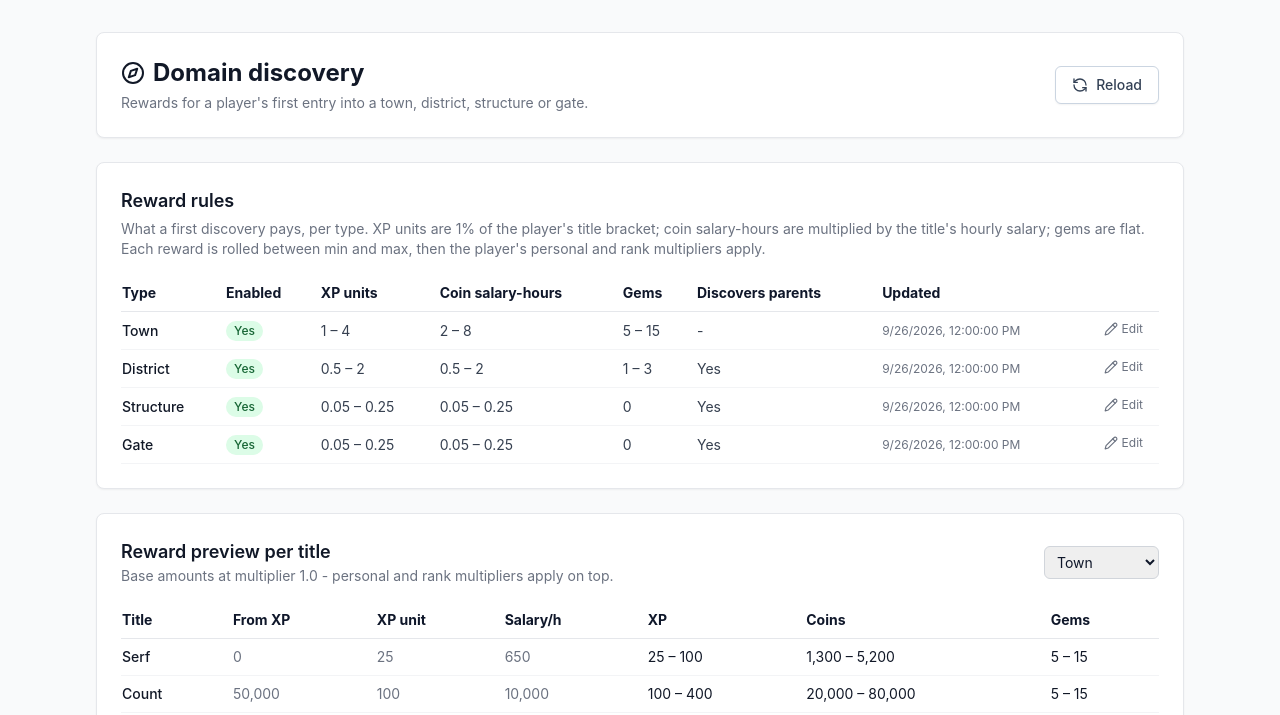
Test case: DiscoveryAdminPage › turning a type with subtypes on or off › asks whether Gate structures follow when Structure is turned off
This screenshot has width=1280, height=715.
expect the text "Serf" is shown: met, box [121, 638, 232, 676]
Click the button with aria-label "Edit Structure rule": coordinates (1123, 404) [1104, 396, 1143, 412]
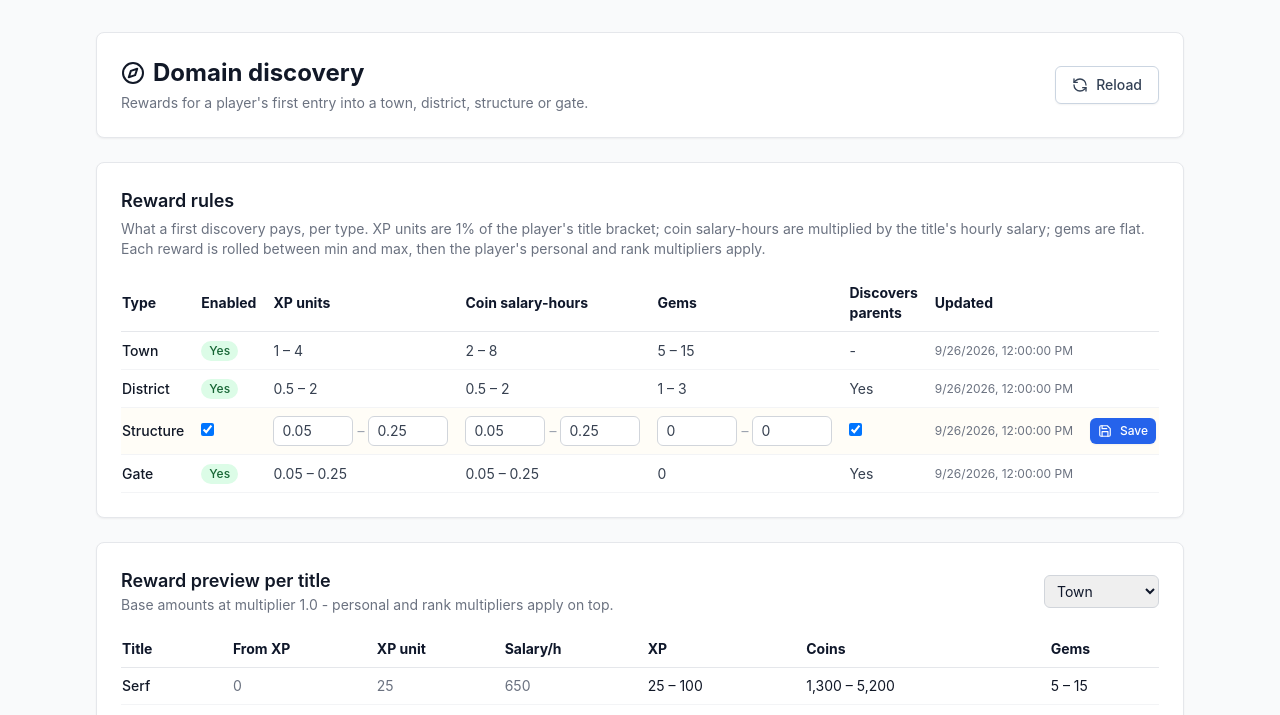
Click the checkbox named "Structure enabled": coordinates (208, 430) [201, 423, 214, 436]
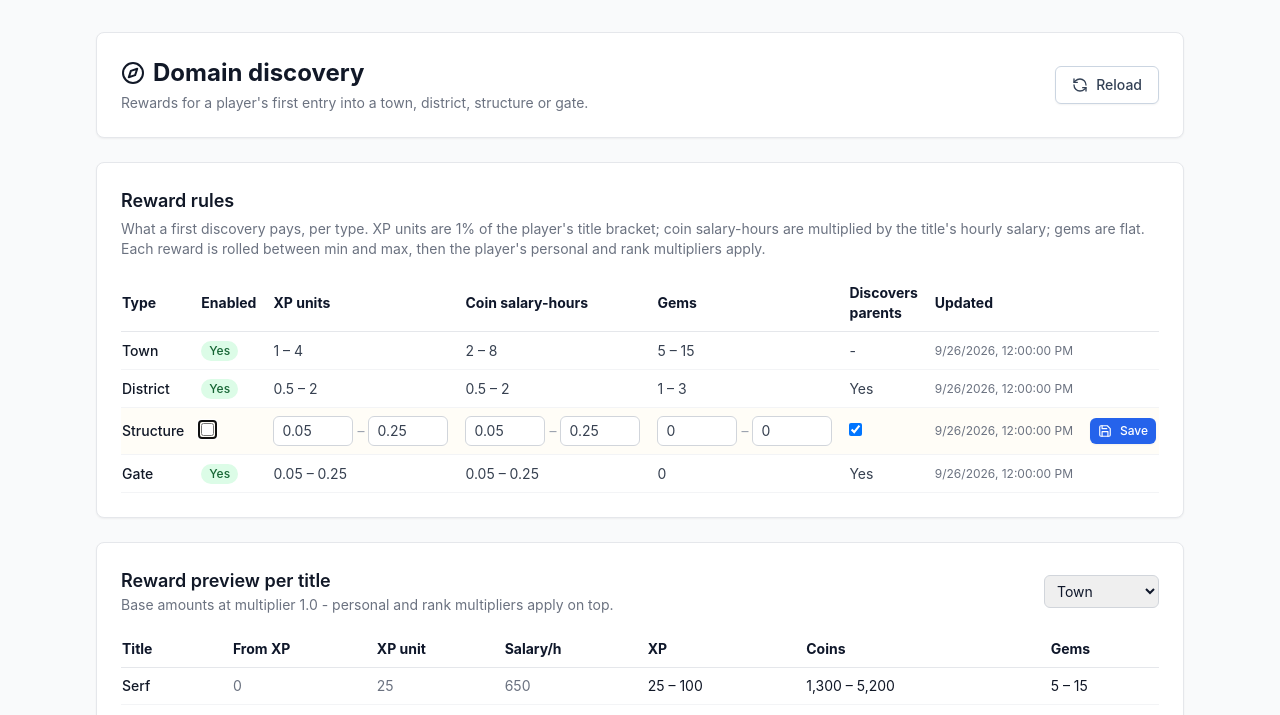
Click the button "Save": coordinates (1123, 431) [1090, 418, 1156, 444]
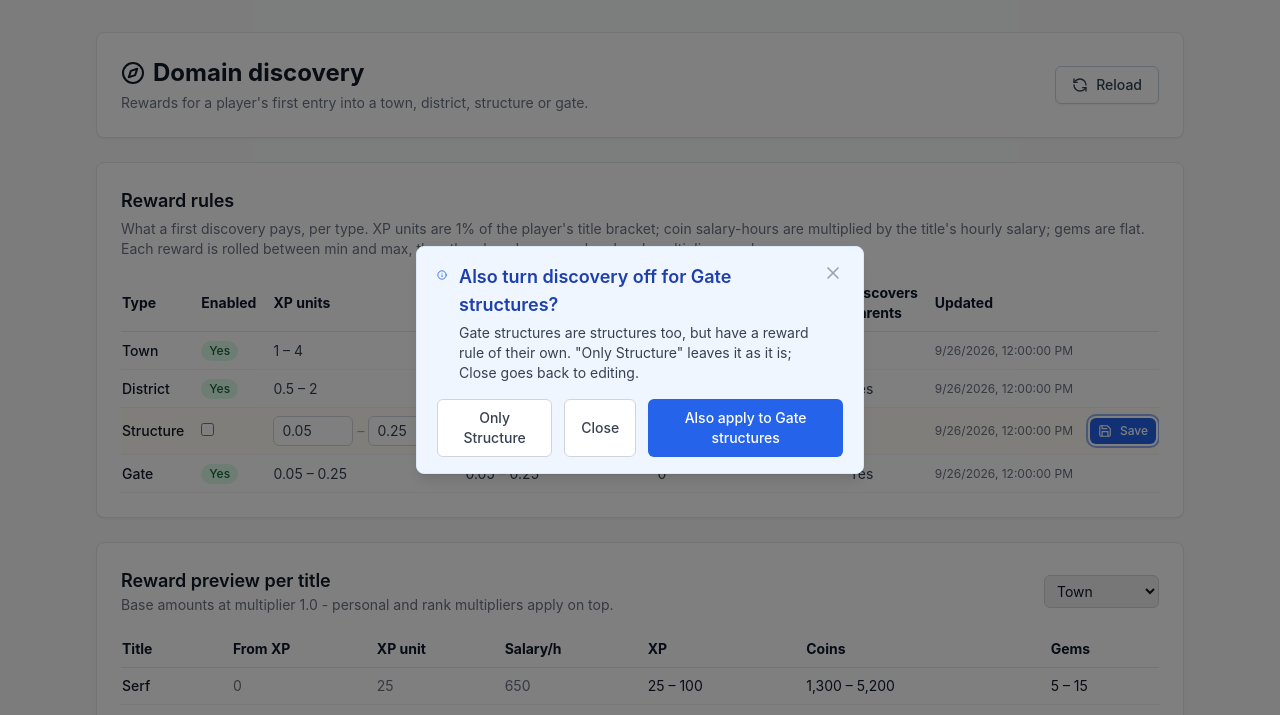
expect the button "Also apply to Gate structures" is shown: met, box [648, 399, 843, 457]
expect the button "Only Structure" is shown: met, box [437, 399, 552, 457]
Click the button "Close": coordinates (600, 428) [564, 399, 636, 457]
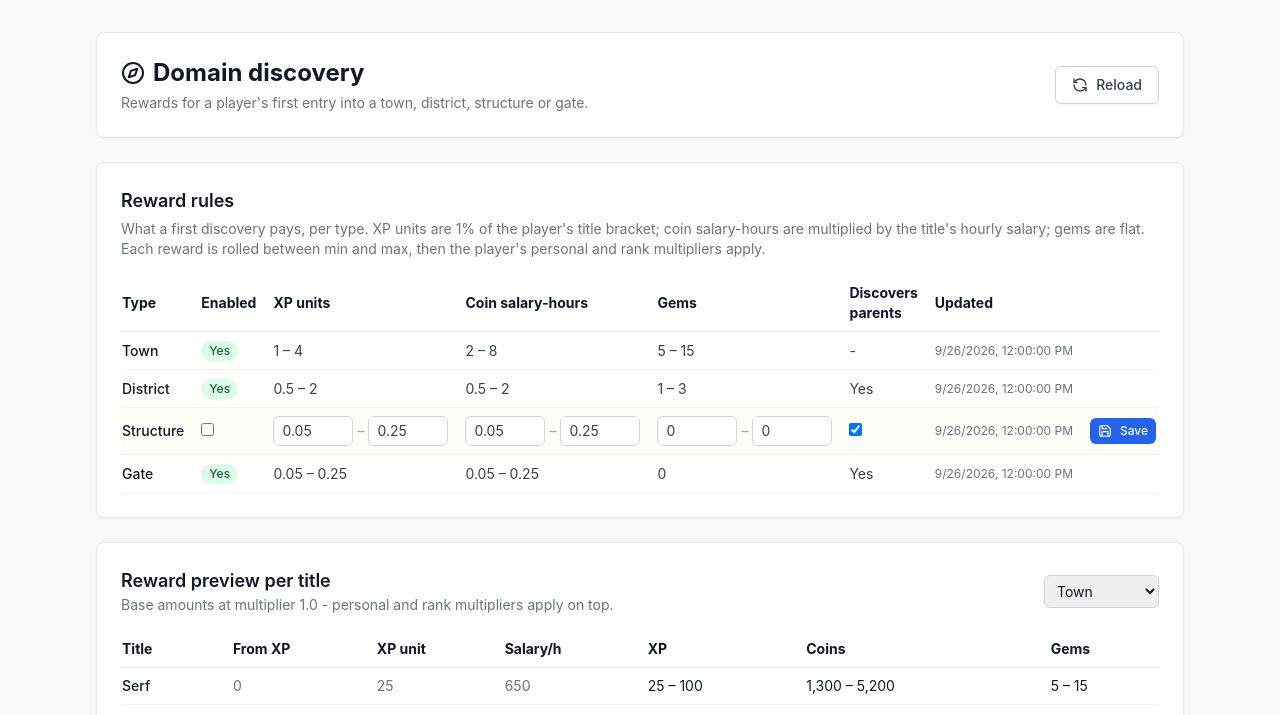
expect the checkbox named "Structure enabled" is not checked: met, box [201, 423, 214, 436]
expect the dialog is gone: met
